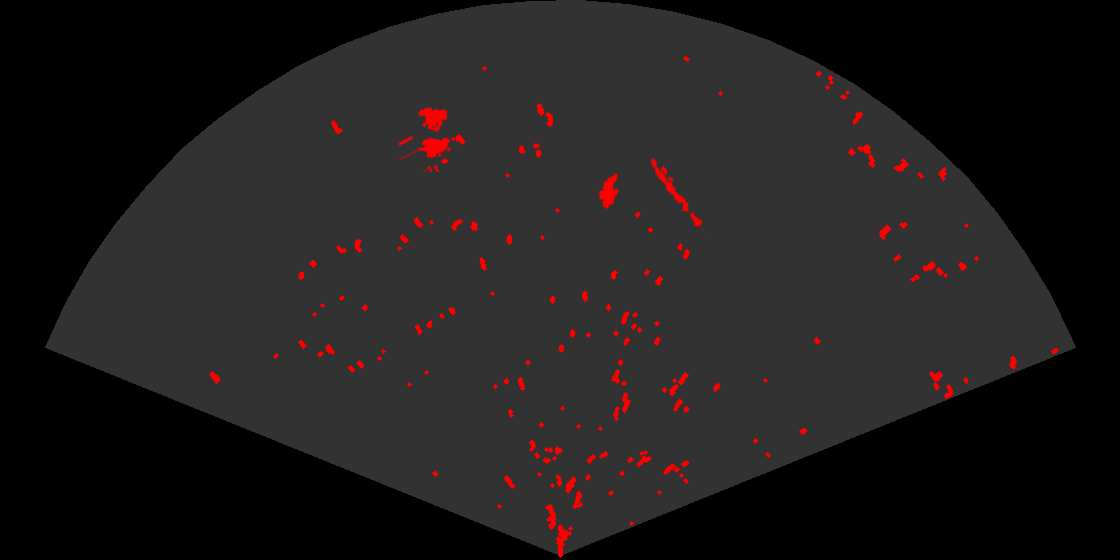AUV: (597, 171, 620, 211)
cage: (399, 106, 457, 172)
chain: (649, 156, 709, 237)
